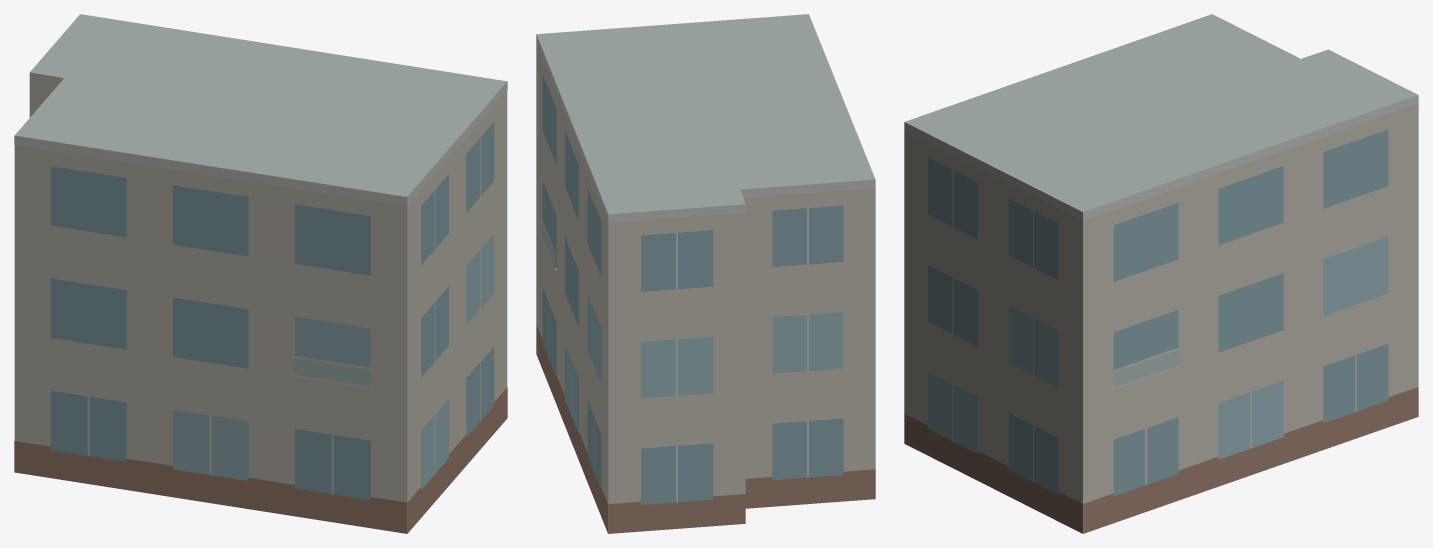
Rendered from survey-upis-32914109.glb.
The picture shows the model from 3 angles, left to right: view 1: azimuth 30°, elevation 25°; view 2: azimuth 150°, elevation 25°; view 3: azimuth 270°, elevation 25°; orthographic projection. The views are drawn at different scales.
Visible parts, largest first — view 1: survey-upis-32914109.tmp; view 2: survey-upis-32914109.tmp; view 3: survey-upis-32914109.tmp.
Boxes of the visible parts, bbox=[...] form: survey-upis-32914109.tmp: bbox=[14, 14, 507, 533]; survey-upis-32914109.tmp: bbox=[536, 14, 875, 533]; survey-upis-32914109.tmp: bbox=[904, 14, 1418, 533].
Size of the model in its own units: 12.1 by 9.15 by 13.27.
